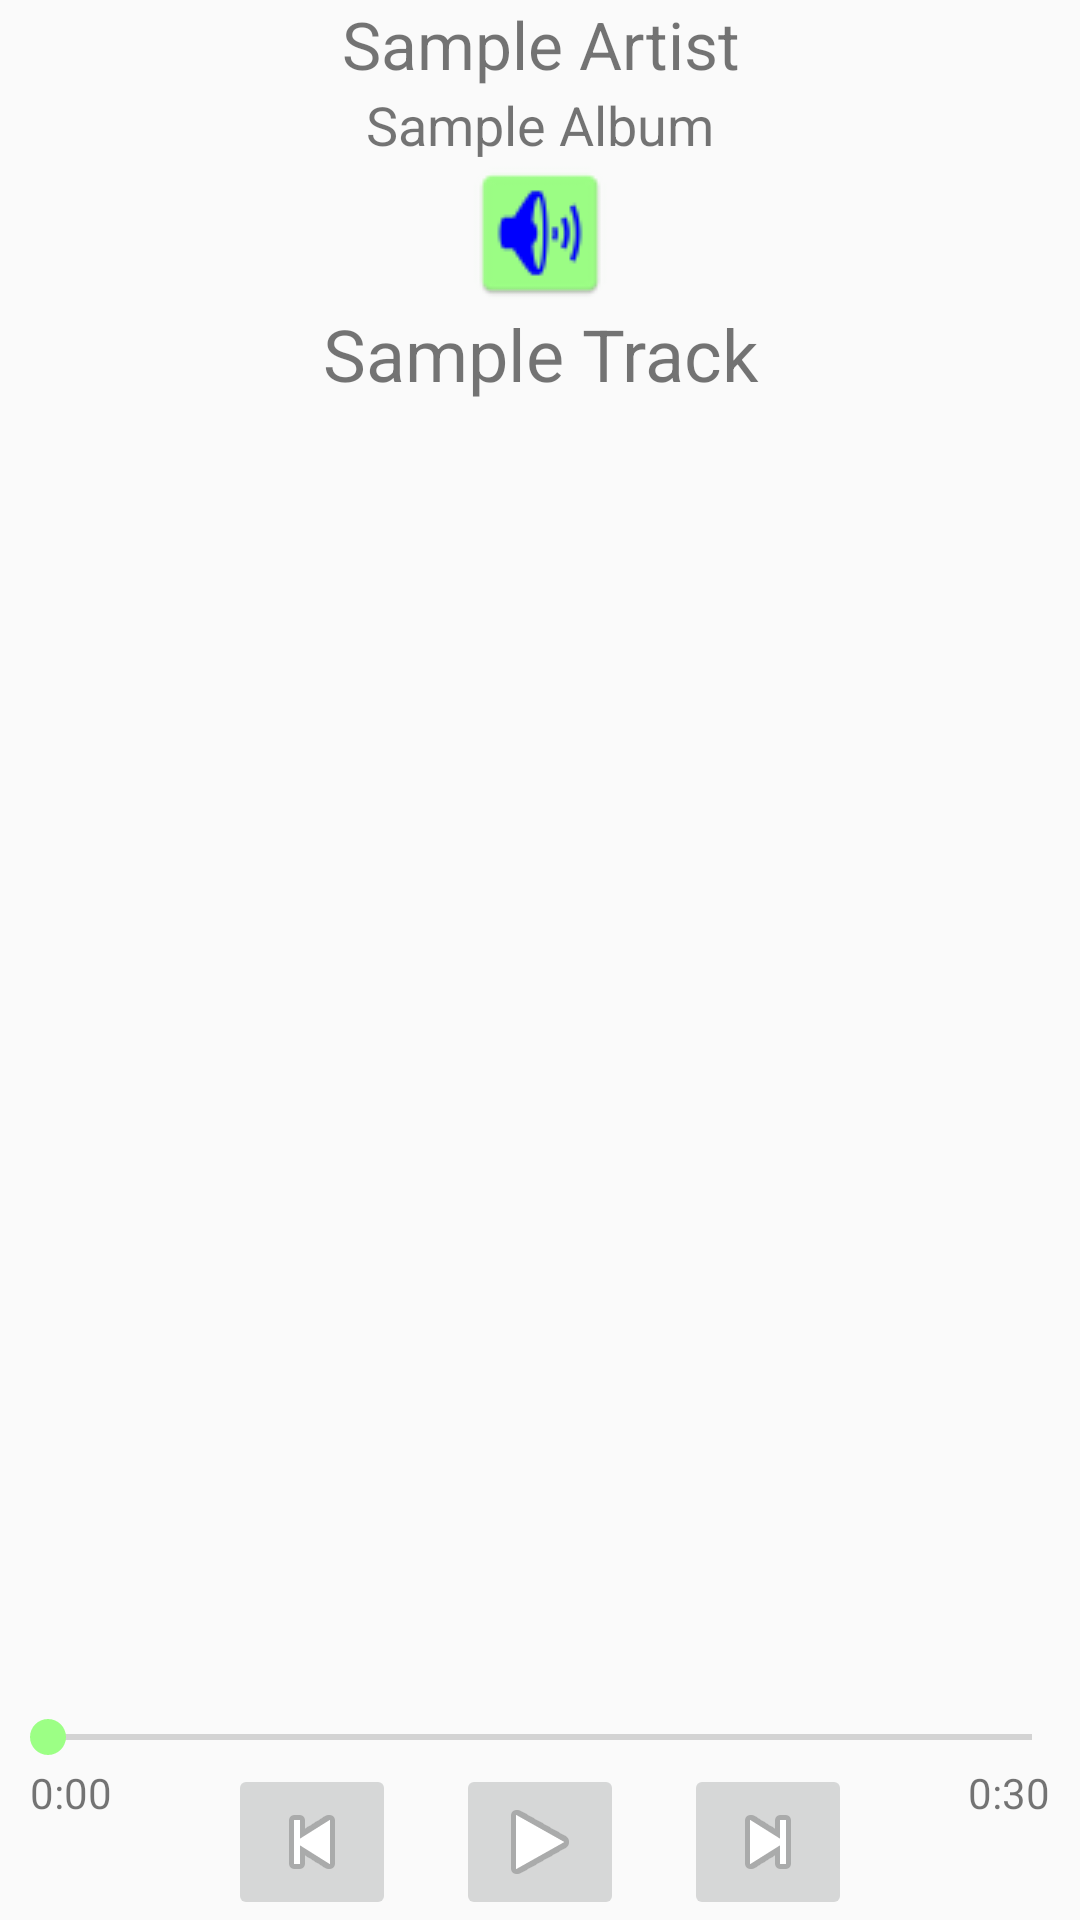

Icons on this 1080 x 1920 Android screen, each with the point to tap as (x=x, y=y):
next: (x=768, y=1842)
play: (x=540, y=1842)
previous: (x=312, y=1842)
